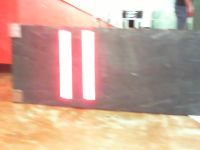switch: (82, 30, 96, 100), (59, 32, 72, 99)
